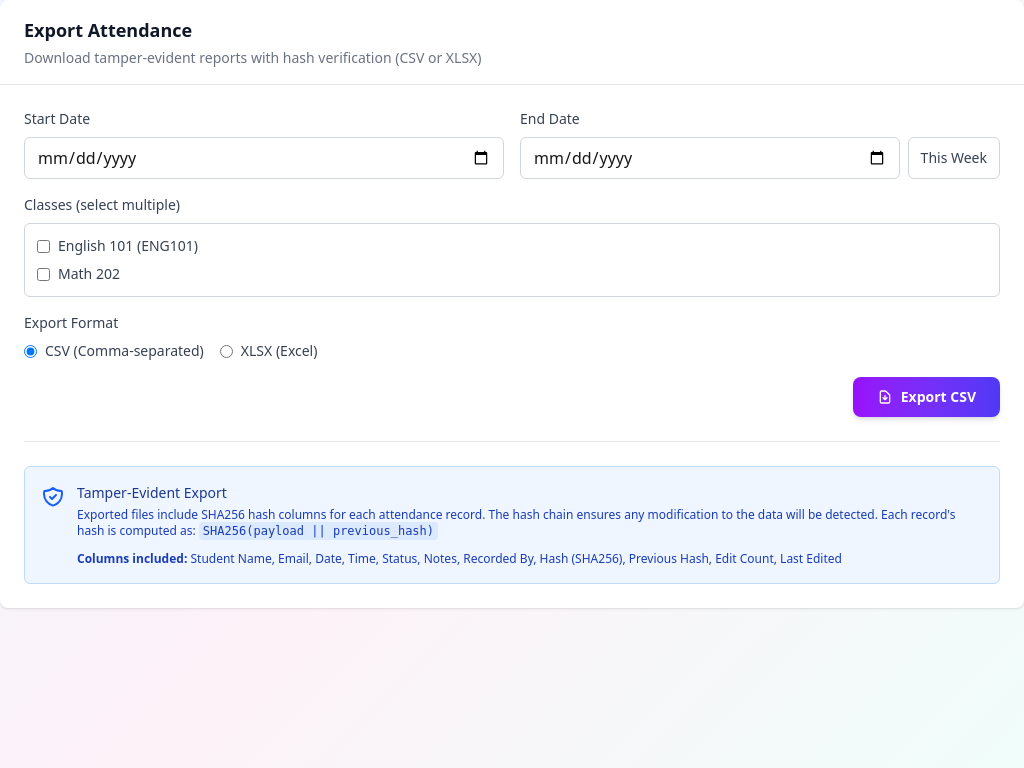
Test: AttendanceExport Component › should handle network errors gracefully
# Select a class and set dates
Click the checkbox labelled "English 101 (ENG101)". click: (44, 246)
box: [37,240,50,252]
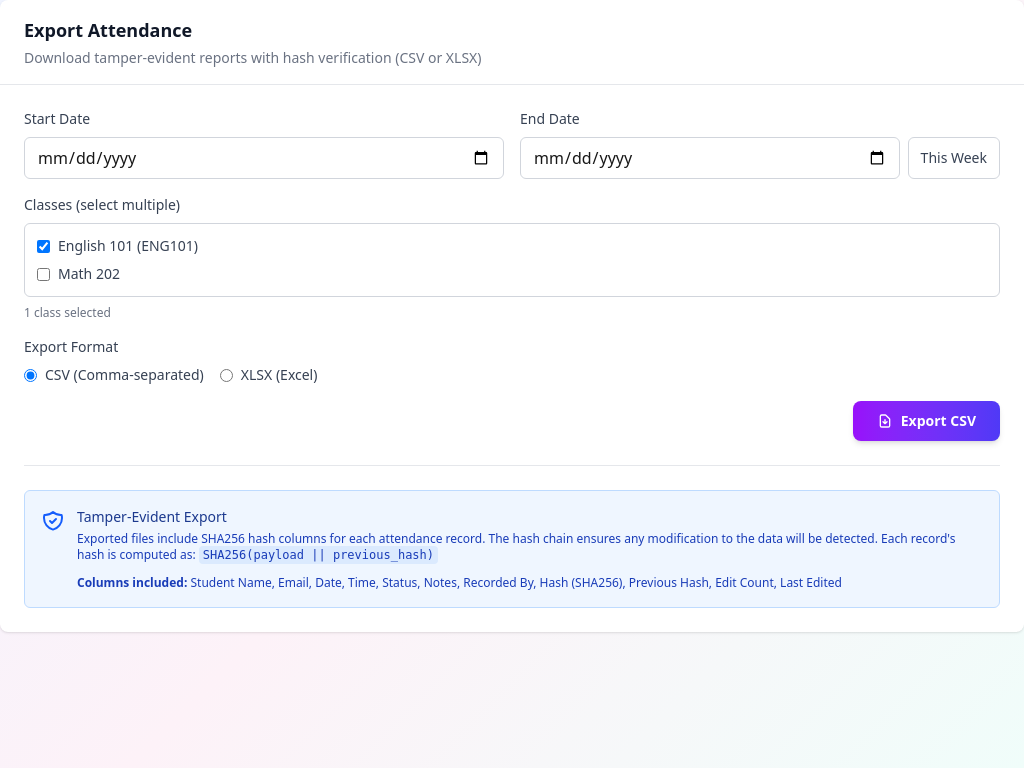
Type "2024-01-08" into the date field labelled "Start Date". click: (264, 158)
box: [24,137,504,179]
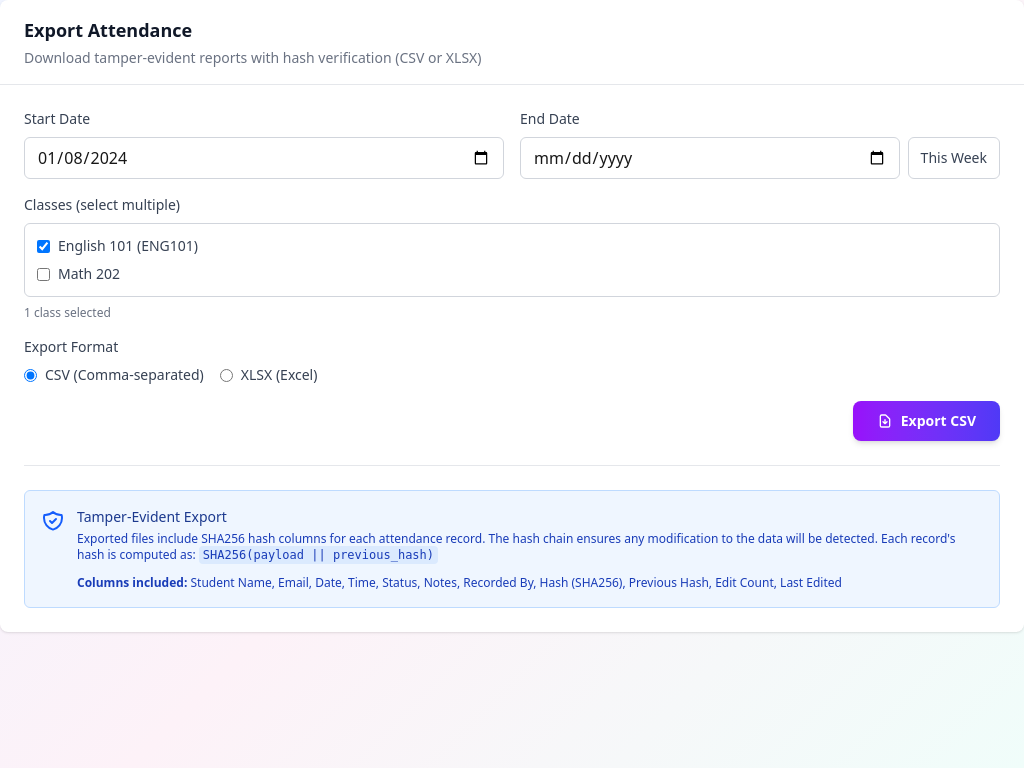
Type "2024-01-14" into the date field labelled "End Date". click: (710, 158)
box: [520,137,900,179]
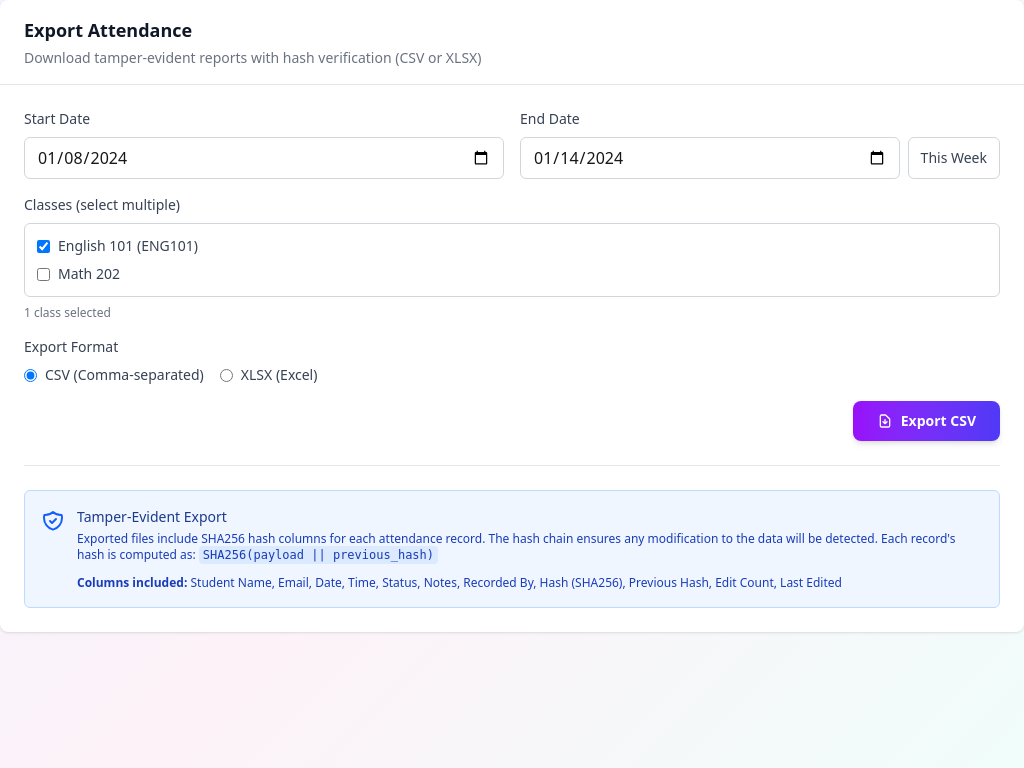
Click the button "Export CSV". click: (926, 421)
box: [853,401,1000,441]
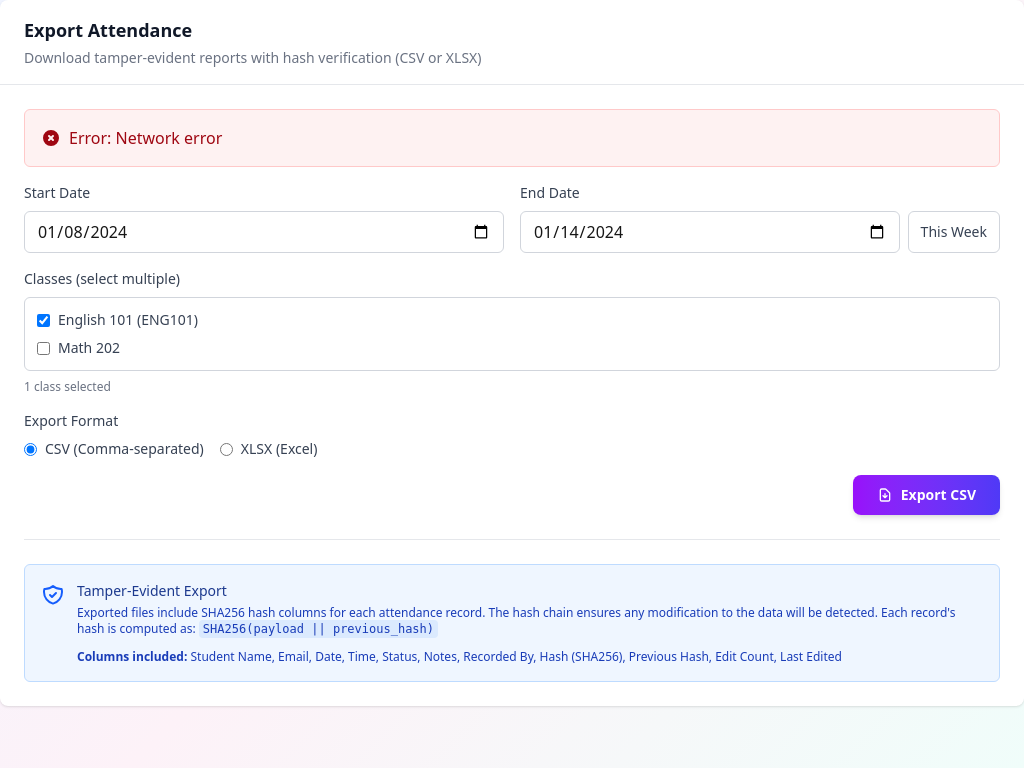
Expected: the text "Error: Network error" is shown, [69,126,222,150]
